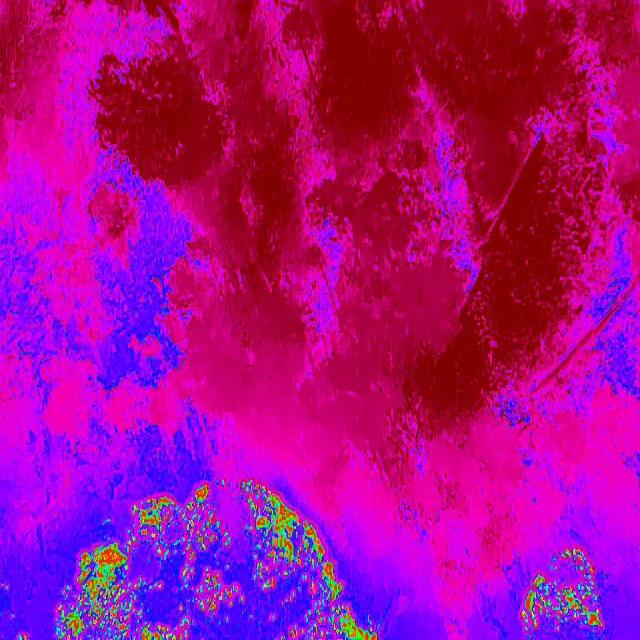fire: (54, 586, 354, 640), (75, 544, 339, 584), (127, 498, 322, 544), (517, 543, 605, 637), (188, 476, 278, 498), (355, 622, 380, 640), (15, 629, 30, 640)
